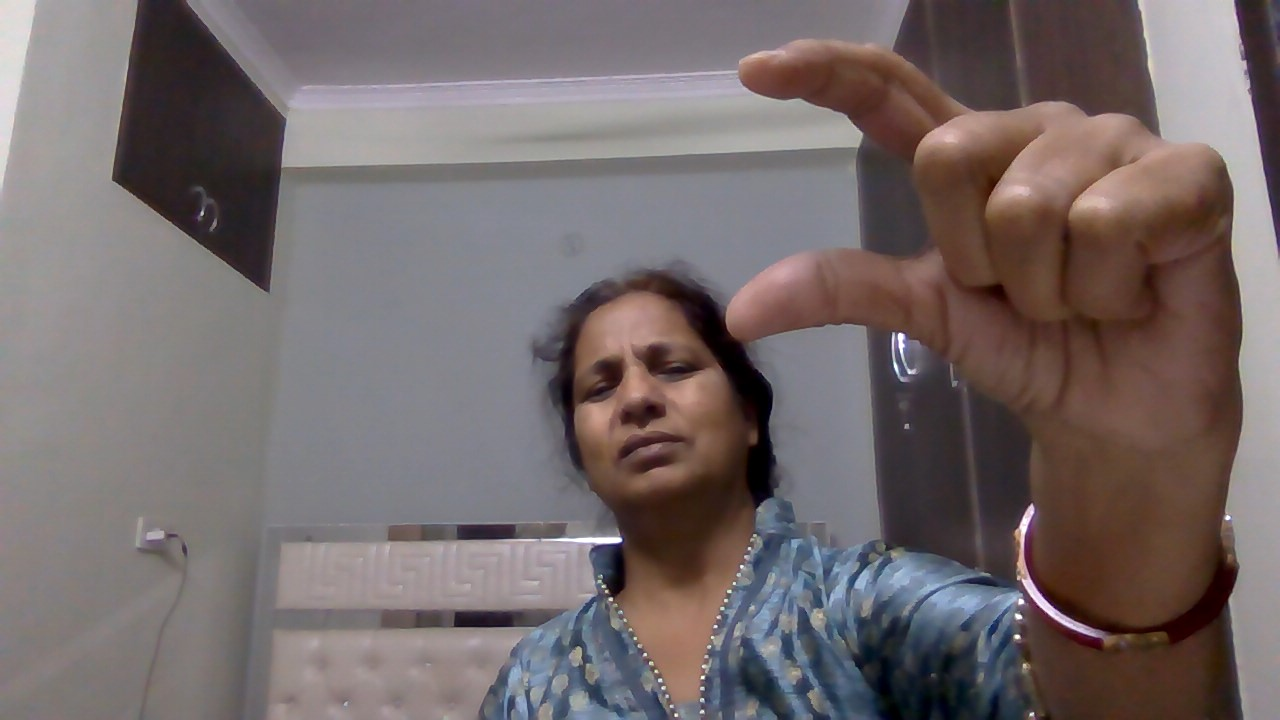Paste: (709, 33, 1267, 476)
